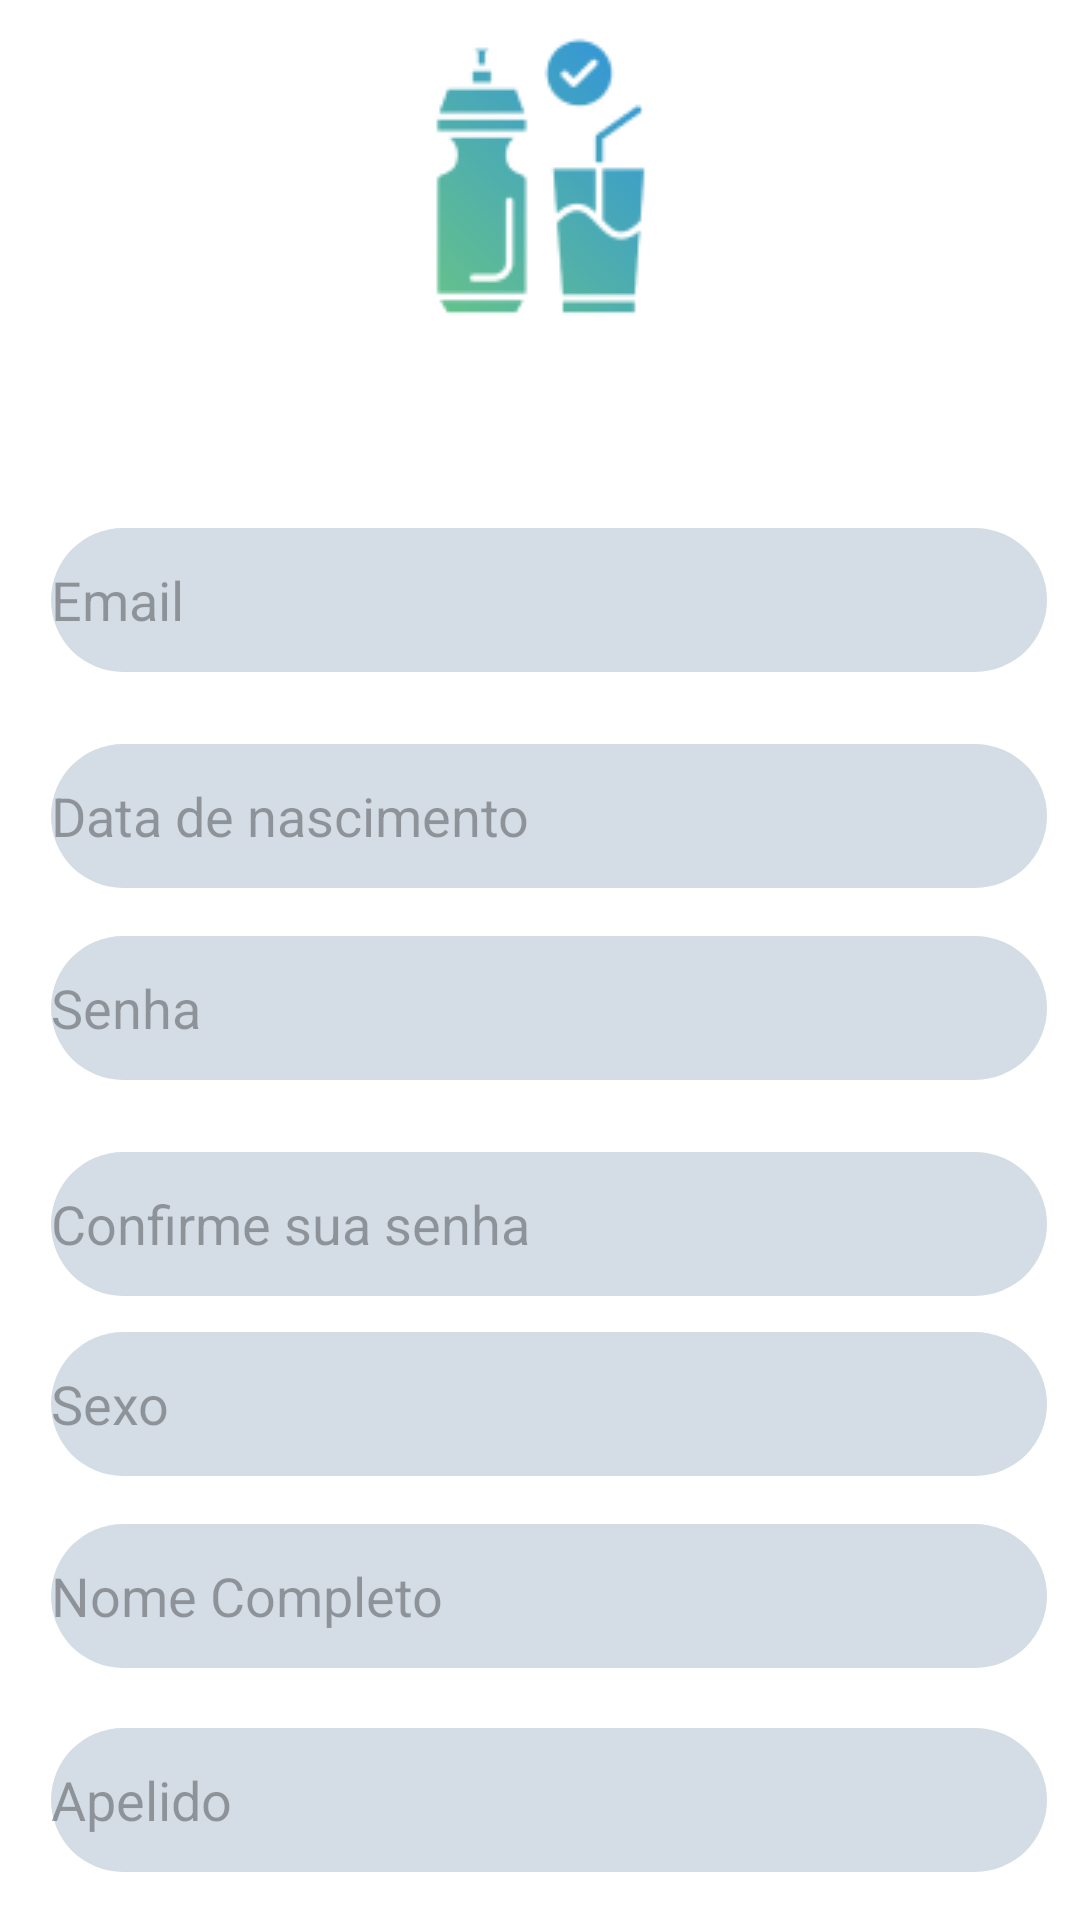

Named icons in this screenshot (1080px×1920px) and their centers, [x,y]:
waterconsumption: [540,175]
